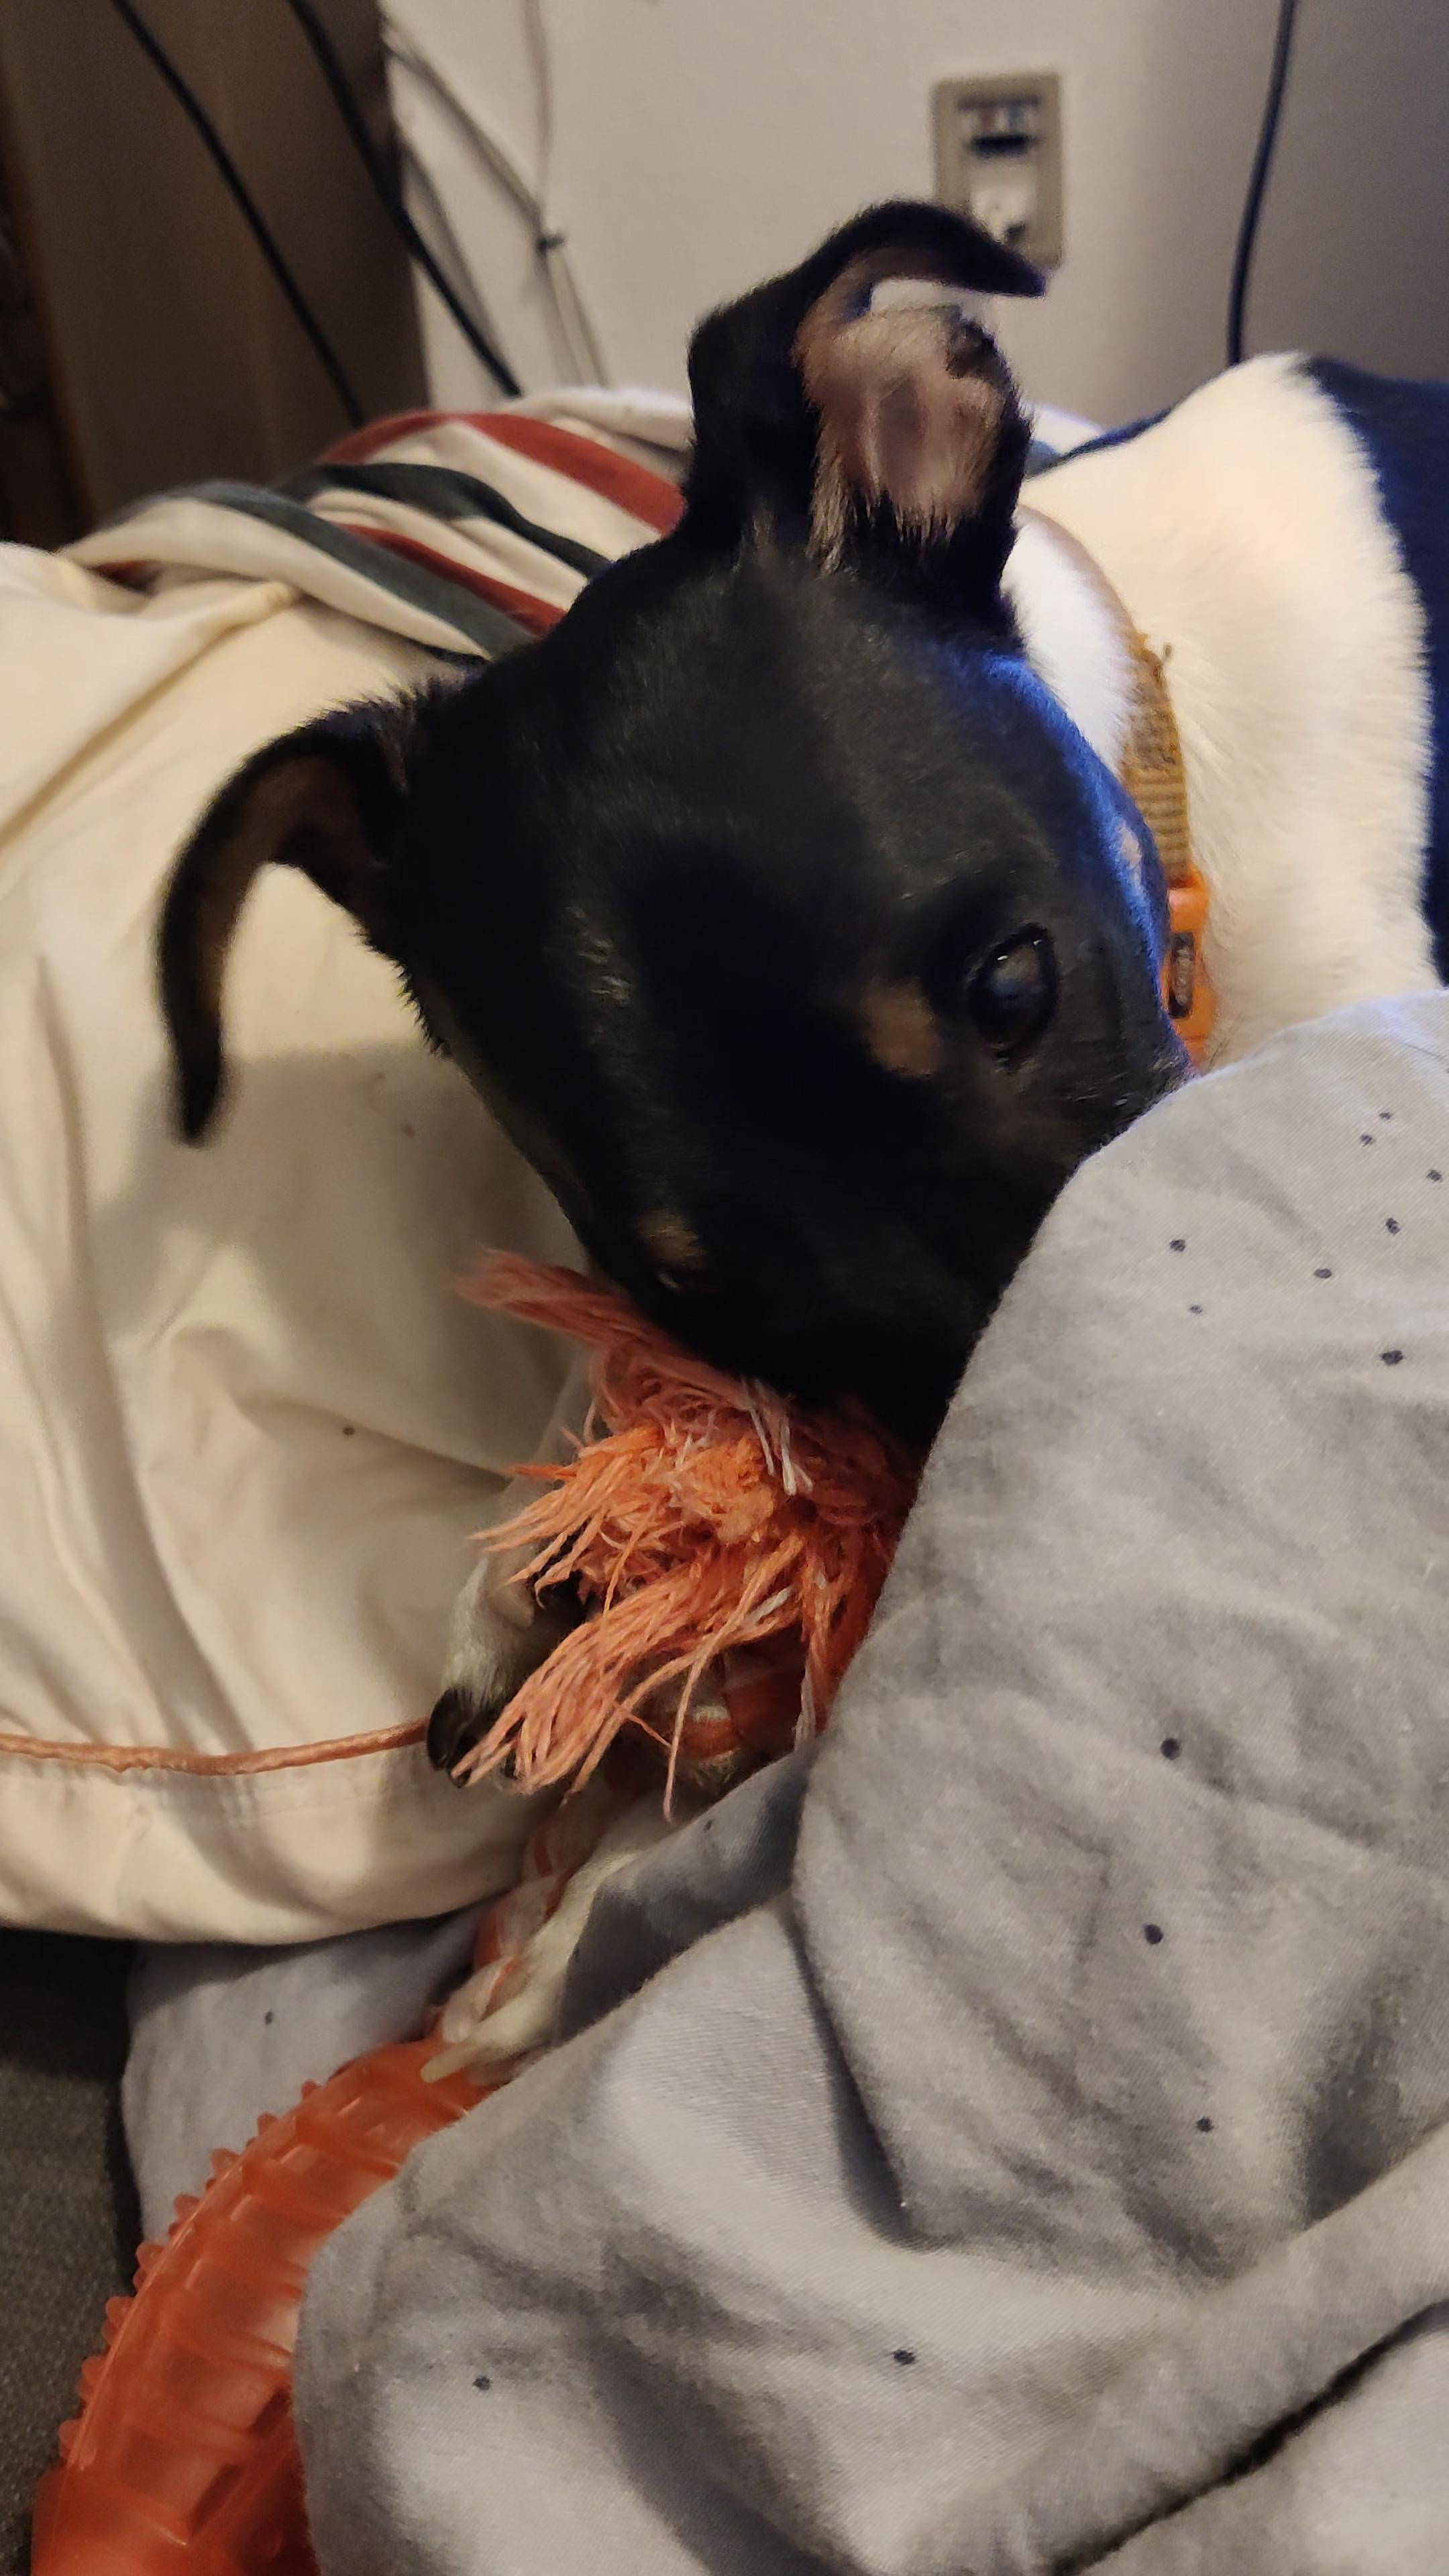Dog: (149, 180, 1449, 2084)
